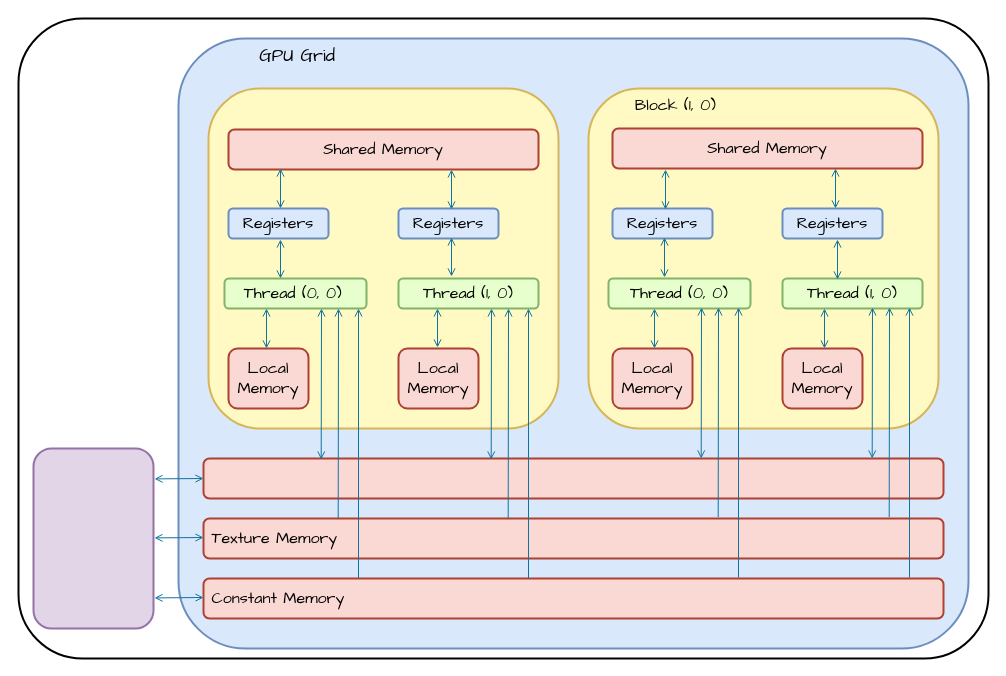
Some shapes in this 1006 by 676 pixel diagram are drawn without their labels. The centre of each missing label's shape, as x and y in pixels:
Block (0, 0): [383,258]
CPU: [93,538]
Global Memory: [573,478]
